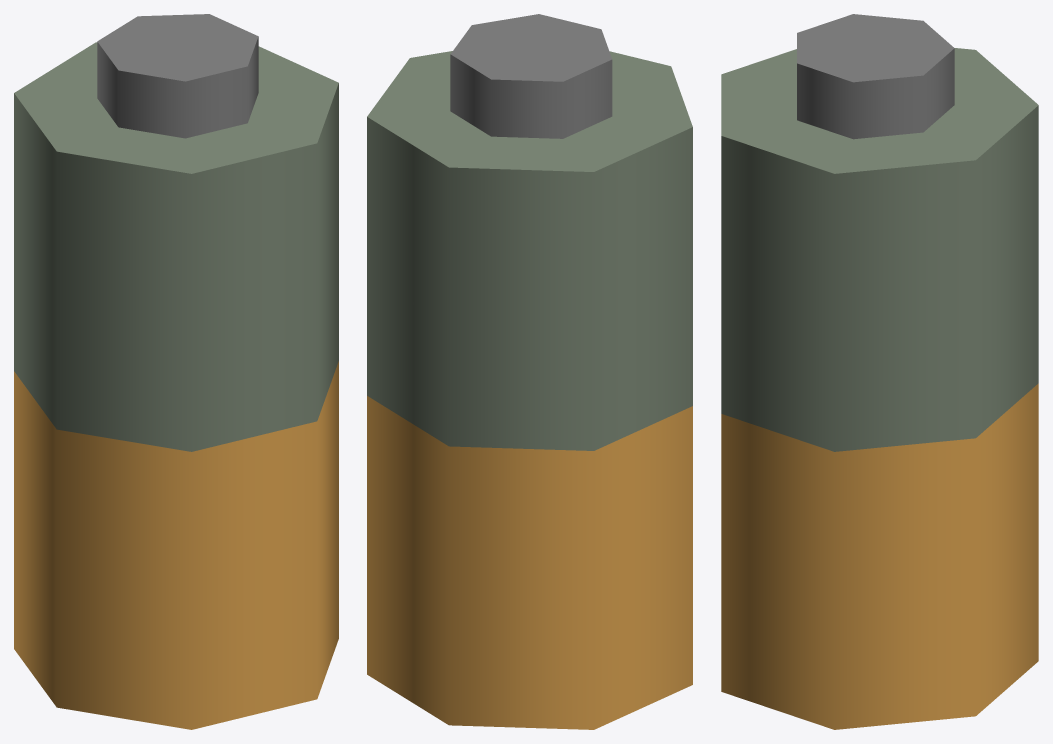
File: bvaterie.fbx
3 renders of one model, left to right at view 1: azimuth 30°, elevation 25°; view 2: azimuth 150°, elevation 25°; view 3: azimuth 270°, elevation 25°, orthographic.
Parts seen in each view (by area): view 1: batteries; view 2: batteries; view 3: batteries.
Part boxes in pixels (x1,y1,x2,y2): batteries: (14, 14, 338, 729); batteries: (367, 14, 692, 729); batteries: (721, 14, 1038, 729).
Size of the model in its own units: 13.32 by 28.24 by 12.99.
